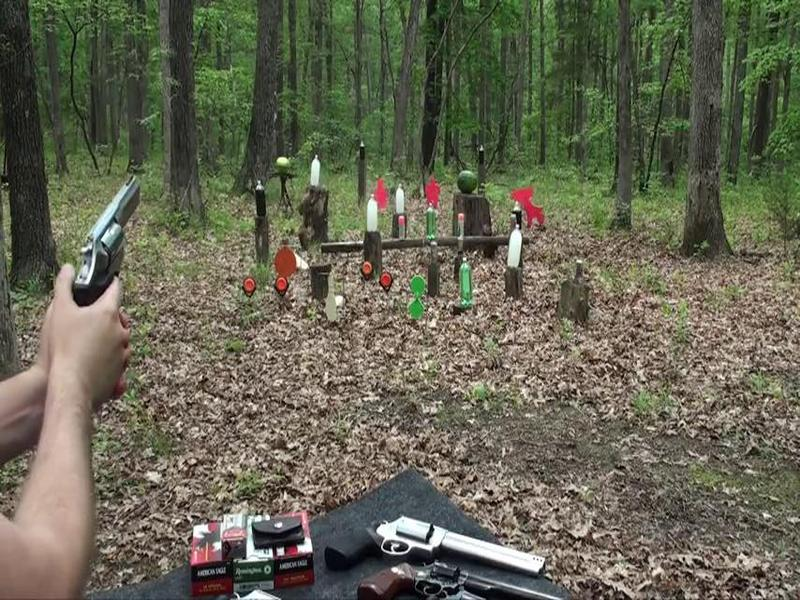Revolver: (61, 165, 157, 366)
